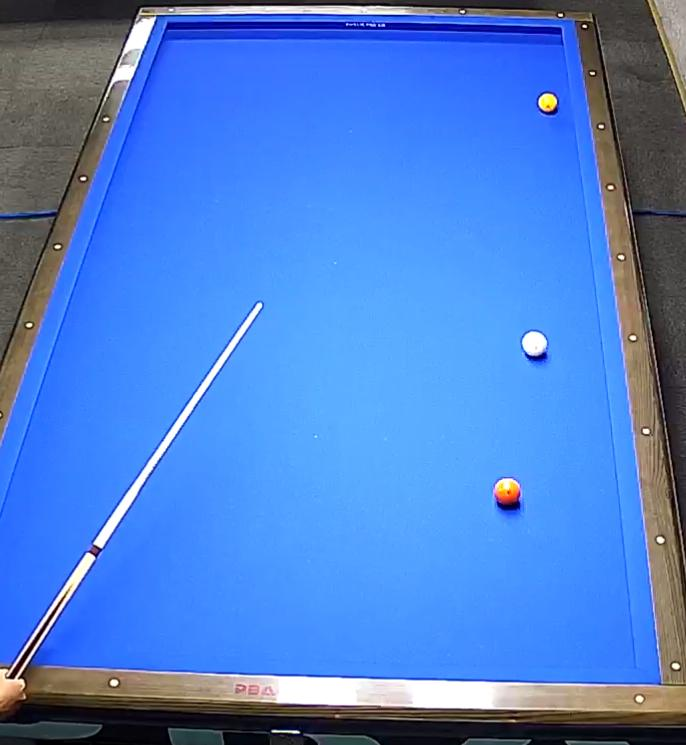orange ball: (489, 473, 528, 518)
white ball: (517, 331, 552, 370)
yellow ball: (533, 87, 565, 118)
